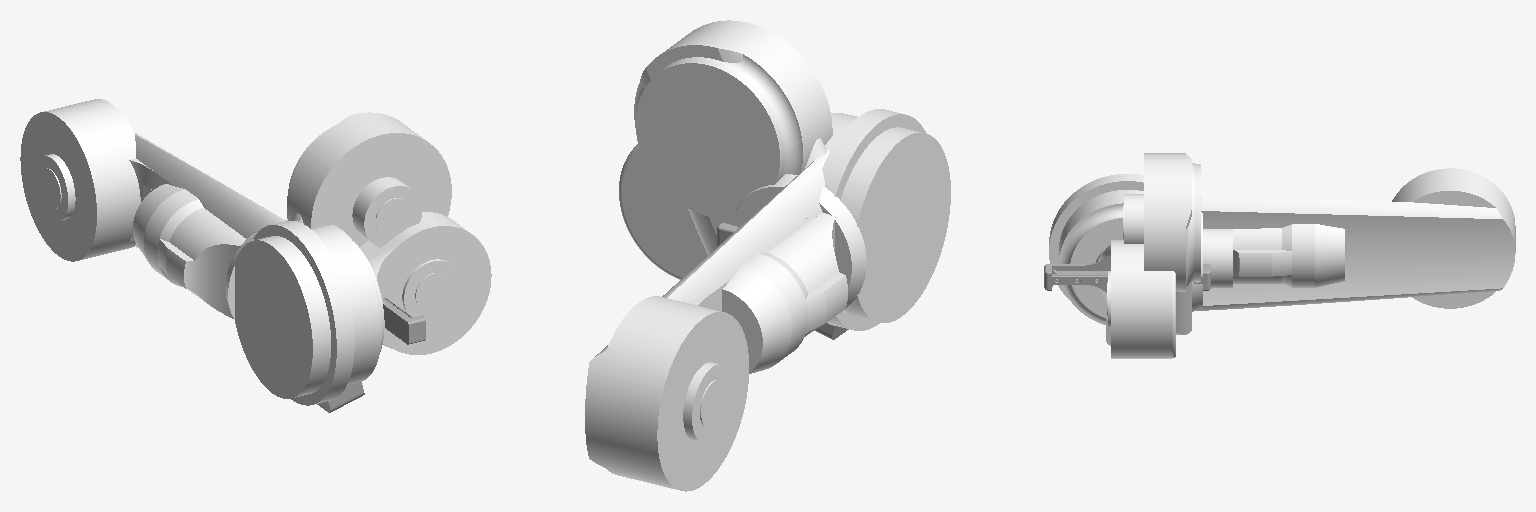
URDF robot description (UF_ROBOT):
<?xml version="1.0" ?>
<!-- =================================================================================== -->
<!-- |    This document was autogenerated by xacro from /home/ruthwik/Documents/dimos/data/xarm_description/urdf/xarm_device.urdf.xacro | -->
<!-- |    EDITING THIS FILE BY HAND IS NOT RECOMMENDED                                 | -->
<!-- =================================================================================== -->
<robot name="UF_ROBOT">
  <!-- Insert at the beginning of xarm_device_macro.xacro -->
  <material name="Black">
    <color rgba="0.0 0.0 0.0 1.0"/>
  </material>
  <material name="Red">
    <color rgba="0.8 0.0 0.0 1.0"/>
  </material>
  <material name="White">
    <color rgba="1.0 1.0 1.0 1.0"/>
  </material>
  <material name="Silver">
    <color rgba="0.753 0.753 0.753 1.0"/>
  </material>
  <link name="world"/>
  <joint name="world_joint" type="fixed">
    <parent link="world"/>
    <child link="link_base"/>
    <origin rpy="0 0 0" xyz="0 0 0"/>
  </joint>
  <ros2_control name="uf_robot_hardware/UFRobotSystemHardware" type="system">
    <hardware>
      <plugin>uf_robot_hardware/UFRobotSystemHardware</plugin>
      <param name="hw_ns">xarm</param>
      <param name="velocity_control">False</param>
      <param name="prefix">P</param>
      <param name="robot_ip">R</param>
      <param name="report_type">normal</param>
      <param name="dof">6</param>
      <param name="baud_checkset">True</param>
      <param name="default_gripper_baud">2000000</param>
      <param name="robot_type">xarm</param>
      <param name="add_gripper">False</param>
      <param name="add_bio_gripper">False</param>
      <!-- fake -->
      <!-- <plugin>fake_components/GenericSystem</plugin> -->
      <!-- gazebo -->
      <!-- <plugin>gazebo_ros2_control/GazeboSystem</plugin> -->
      <!-- real xarm -->
      <!-- <plugin>uf_robot_hardware/UFRobotSystemHardware</plugin> -->
    </hardware>
    <joint name="joint1">
      <command_interface name="position">
        <param name="min">-6.283185307179586</param>
        <param name="max">6.283185307179586</param>
      </command_interface>
      <command_interface name="velocity">
        <param name="min">-3.14</param>
        <param name="max">3.14</param>
      </command_interface>
      <state_interface name="position"/>
      <state_interface name="velocity"/>
      <!-- <state_interface name="effort"/> -->
    </joint>
    <joint name="joint2">
      <command_interface name="position">
        <param name="min">-2.059</param>
        <param name="max">2.0944</param>
      </command_interface>
      <command_interface name="velocity">
        <param name="min">-3.14</param>
        <param name="max">3.14</param>
      </command_interface>
      <state_interface name="position"/>
      <state_interface name="velocity"/>
      <!-- <state_interface name="effort"/> -->
    </joint>
    <joint name="joint3">
      <command_interface name="position">
        <param name="min">-3.927</param>
        <param name="max">0.19198</param>
      </command_interface>
      <command_interface name="velocity">
        <param name="min">-3.14</param>
        <param name="max">3.14</param>
      </command_interface>
      <state_interface name="position"/>
      <state_interface name="velocity"/>
      <!-- <state_interface name="effort"/> -->
    </joint>
    <joint name="joint4">
      <command_interface name="position">
        <param name="min">-6.283185307179586</param>
        <param name="max">6.283185307179586</param>
      </command_interface>
      <command_interface name="velocity">
        <param name="min">-3.14</param>
        <param name="max">3.14</param>
      </command_interface>
      <state_interface name="position"/>
      <state_interface name="velocity"/>
      <!-- <state_interface name="effort"/> -->
    </joint>
    <joint name="joint5">
      <command_interface name="position">
        <param name="min">-1.69297</param>
        <param name="max">3.141592653589793</param>
      </command_interface>
      <command_interface name="velocity">
        <param name="min">-3.14</param>
        <param name="max">3.14</param>
      </command_interface>
      <state_interface name="position"/>
      <state_interface name="velocity"/>
      <!-- <state_interface name="effort"/> -->
    </joint>
    <joint name="joint6">
      <command_interface name="position">
        <param name="min">-6.283185307179586</param>
        <param name="max">6.283185307179586</param>
      </command_interface>
      <command_interface name="velocity">
        <param name="min">-3.14</param>
        <param name="max">3.14</param>
      </command_interface>
      <state_interface name="position"/>
      <state_interface name="velocity"/>
      <!-- <state_interface name="effort"/> -->
    </joint>
  </ros2_control>
  <link name="link_base">
    <inertial>
      <origin rpy="0 0 0" xyz="0.0 0.0 0.09103"/>
      <mass value="2.7"/>
      <inertia ixx="0.00494875" ixy="-3.5E-06" ixz="1.25E-05" iyy="0.00494174" iyz="1.67E-06" izz="0.002219"/>
    </inertial>
    <visual>
      <geometry>
        <mesh filename="package://xarm_description/meshes/xarm6/visual/link_base.stl"/>
      </geometry>
      <origin rpy="0 0 0" xyz="0 0 0"/>
      <material name="White"/>
    </visual>
    <collision>
      <geometry>
        <mesh filename="package://xarm_description/meshes/xarm6/visual/link_base.stl"/>
      </geometry>
      <origin rpy="0 0 0" xyz="0 0 0"/>
    </collision>
  </link>
  <link name="link1">
    <inertial>
      <origin rpy="0 0 0" xyz="0.00022 0.02951 -0.0124"/>
      <mass value="2.3814"/>
      <inertia ixx="0.0058562" ixy="-1.79e-05" ixz="3.55e-06" iyy="0.0050316" iyz="-0.000888336" izz="0.003536652"/>
    </inertial>
    <visual>
      <geometry>
        <mesh filename="package://xarm_description/meshes/xarm6/visual/link1.stl"/>
      </geometry>
      <origin rpy="0 0 0" xyz="0 0 0"/>
      <material name="White"/>
    </visual>
    <collision>
      <geometry>
        <mesh filename="package://xarm_description/meshes/xarm6/visual/link1.stl"/>
      </geometry>
      <origin rpy="0 0 0" xyz="0 0 0"/>
    </collision>
  </link>
  <joint name="joint1" type="revolute">
    <parent link="link_base"/>
    <child link="link1"/>
    <origin rpy="0 0 0" xyz="0 0 0.267"/>
    <axis xyz="0 0 1"/>
    <limit effort="50.0" lower="-6.283185307179586" upper="6.283185307179586" velocity="3.14"/>
    <dynamics damping="1.0" friction="1.0"/>
  </joint>
  <link name="link2">
    <inertial>
      <origin rpy="0 0 0" xyz="0.03881 -0.22783 0.03496"/>
      <mass value="2.2675"/>
      <inertia ixx="0.028315776" ixy="0.005" ixz="0.00066546" iyy="0.0058" iyz="-0.0045741" izz="0.0273447"/>
    </inertial>
    <visual>
      <geometry>
        <mesh filename="package://xarm_description/meshes/xarm6/visual/link2.stl"/>
      </geometry>
      <origin rpy="0 0 0" xyz="0 0 0"/>
      <material name="White"/>
    </visual>
    <collision>
      <geometry>
        <mesh filename="package://xarm_description/meshes/xarm6/visual/link2.stl"/>
      </geometry>
      <origin rpy="0 0 0" xyz="0 0 0"/>
    </collision>
  </link>
  <joint name="joint2" type="revolute">
    <parent link="link1"/>
    <child link="link2"/>
    <origin rpy="-1.5708 0 0" xyz="0 0 0"/>
    <axis xyz="0 0 1"/>
    <limit effort="50.0" lower="-2.059" upper="2.0944" velocity="3.14"/>
    <dynamics damping="1.0" friction="1.0"/>
  </joint>
  <link name="link3">
    <inertial>
      <origin rpy="0 0 0" xyz="0.07041 0.11631 0.0107"/>
      <mass value="1.875"/>
      <inertia ixx="0.0063483" ixy="-0.0015397" ixz="0.00096858" iyy="0.00379758" iyz="0.00186567" izz="0.00595768"/>
    </inertial>
    <visual>
      <geometry>
        <mesh filename="package://xarm_description/meshes/xarm6/visual/link3.stl"/>
      </geometry>
      <origin rpy="0 0 0" xyz="0 0 0"/>
      <material name="White"/>
    </visual>
    <collision>
      <geometry>
        <mesh filename="package://xarm_description/meshes/xarm6/visual/link3.stl"/>
      </geometry>
      <origin rpy="0 0 0" xyz="0 0 0"/>
    </collision>
  </link>
  <joint name="joint3" type="revolute">
    <parent link="link2"/>
    <child link="link3"/>
    <origin rpy="0 0 0" xyz="0.0535 -0.2845 0"/>
    <axis xyz="0 0 1"/>
    <limit effort="32.0" lower="-3.927" upper="0.19198" velocity="3.14"/>
    <dynamics damping="1.0" friction="1.0"/>
  </joint>
  <link name="link4">
    <inertial>
      <origin rpy="0 0 0" xyz="-0.00018 0.01798 -0.02291"/>
      <mass value="1.3192"/>
      <inertia ixx="0.004896" ixy="-6.925e-06" ixz="-1.418e-05" iyy="0.00445694" iyz="-0.00023186" izz="0.00134332"/>
    </inertial>
    <visual>
      <geometry>
        <mesh filename="package://xarm_description/meshes/xarm6/visual/link4.stl"/>
      </geometry>
      <origin rpy="0 0 0" xyz="0 0 0"/>
      <material name="White"/>
    </visual>
    <collision>
      <geometry>
        <mesh filename="package://xarm_description/meshes/xarm6/visual/link4.stl"/>
      </geometry>
      <origin rpy="0 0 0" xyz="0 0 0"/>
    </collision>
  </link>
  <joint name="joint4" type="revolute">
    <parent link="link3"/>
    <child link="link4"/>
    <origin rpy="-1.5708 0 0" xyz="0.0775 0.3425 0"/>
    <axis xyz="0 0 1"/>
    <limit effort="32.0" lower="-6.283185307179586" upper="6.283185307179586" velocity="3.14"/>
    <dynamics damping="1.0" friction="1.0"/>
  </joint>
  <link name="link5">
    <inertial>
      <origin rpy="0 0 0" xyz="0.0651 0.03096 0.00315"/>
      <mass value="1.33854"/>
      <inertia ixx="0.00146378" ixy="-0.000450624" ixz="0.000284306" iyy="0.00184192" iyz="0.000130866" izz="0.002333524"/>
    </inertial>
    <visual>
      <geometry>
        <mesh filename="package://xarm_description/meshes/xarm6/visual/link5.stl"/>
      </geometry>
      <origin rpy="0 0 0" xyz="0 0 0"/>
      <material name="White"/>
    </visual>
    <collision>
      <geometry>
        <mesh filename="package://xarm_description/meshes/xarm6/visual/link5.stl"/>
      </geometry>
      <origin rpy="0 0 0" xyz="0 0 0"/>
    </collision>
  </link>
  <joint name="joint5" type="revolute">
    <parent link="link4"/>
    <child link="link5"/>
    <origin rpy="1.5708 0 0" xyz="0 0 0"/>
    <axis xyz="0 0 1"/>
    <limit effort="32.0" lower="-1.69297" upper="3.141592653589793" velocity="3.14"/>
    <dynamics damping="1.0" friction="1.0"/>
  </joint>
  <link name="link6">
    <inertial>
      <origin rpy="0 0 0" xyz="0 -0.00677 -0.01098"/>
      <mass value="0.17"/>
      <inertia ixx="9.3e-05" ixy="-0.0" ixz="-0.0" iyy="5.87e-05" iyz="-3.6e-06" izz="0.000132"/>
    </inertial>
    <visual>
      <geometry>
        <mesh filename="package://xarm_description/meshes/xarm6/visual/link6.stl"/>
      </geometry>
      <origin rpy="0 0 0" xyz="0 0 0"/>
      <material name="Silver"/>
    </visual>
    <collision>
      <geometry>
        <mesh filename="package://xarm_description/meshes/end_tool/collision/end_tool.stl"/>
      </geometry>
      <origin rpy="0 0 0" xyz="0 0 0"/>
    </collision>
  </link>
  <joint name="joint6" type="revolute">
    <parent link="link5"/>
    <child link="link6"/>
    <origin rpy="-1.5708 0 0" xyz="0.076 0.097 0"/>
    <axis xyz="0 0 1"/>
    <limit effort="20.0" lower="-6.283185307179586" upper="6.283185307179586" velocity="3.14"/>
    <dynamics damping="1.0" friction="1.0"/>
  </joint>
  <!-- <link name="${prefix}link_eef" />
    <joint name="${prefix}joint_eef" type="fixed">
      <origin xyz="0 0 0" rpy="0 0 0" />
      <parent link="${prefix}link6" />
      <child link="${prefix}link_eef" />
    </joint> -->
  <transmission name="tran1">
    <type>transmission_interface/SimpleTransmission</type>
    <joint name="joint1">
      <hardwareInterface>hardware_interface/PositionJointInterface</hardwareInterface>
    </joint>
    <actuator name="motor1">
      <hardwareInterface>hardware_interface/PositionJointInterface</hardwareInterface>
      <mechanicalReduction>100</mechanicalReduction>
    </actuator>
  </transmission>
  <transmission name="tran2">
    <type>transmission_interface/SimpleTransmission</type>
    <joint name="joint2">
      <hardwareInterface>hardware_interface/PositionJointInterface</hardwareInterface>
    </joint>
    <actuator name="motor2">
      <hardwareInterface>hardware_interface/PositionJointInterface</hardwareInterface>
      <mechanicalReduction>100</mechanicalReduction>
    </actuator>
  </transmission>
  <transmission name="tran3">
    <type>transmission_interface/SimpleTransmission</type>
    <joint name="joint3">
      <hardwareInterface>hardware_interface/PositionJointInterface</hardwareInterface>
    </joint>
    <actuator name="motor3">
      <hardwareInterface>hardware_interface/PositionJointInterface</hardwareInterface>
      <mechanicalReduction>100</mechanicalReduction>
    </actuator>
  </transmission>
  <transmission name="tran4">
    <type>transmission_interface/SimpleTransmission</type>
    <joint name="joint4">
      <hardwareInterface>hardware_interface/PositionJointInterface</hardwareInterface>
    </joint>
    <actuator name="motor4">
      <hardwareInterface>hardware_interface/PositionJointInterface</hardwareInterface>
      <mechanicalReduction>100</mechanicalReduction>
    </actuator>
  </transmission>
  <transmission name="tran5">
    <type>transmission_interface/SimpleTransmission</type>
    <joint name="joint5">
      <hardwareInterface>hardware_interface/PositionJointInterface</hardwareInterface>
    </joint>
    <actuator name="motor5">
      <hardwareInterface>hardware_interface/PositionJointInterface</hardwareInterface>
      <mechanicalReduction>100</mechanicalReduction>
    </actuator>
  </transmission>
  <transmission name="tran6">
    <type>transmission_interface/SimpleTransmission</type>
    <joint name="joint6">
      <hardwareInterface>hardware_interface/PositionJointInterface</hardwareInterface>
    </joint>
    <actuator name="motor6">
      <hardwareInterface>hardware_interface/PositionJointInterface</hardwareInterface>
      <mechanicalReduction>100</mechanicalReduction>
    </actuator>
  </transmission>
  <gazebo reference="link_base">
    <selfCollide>true</selfCollide>
  </gazebo>
  <gazebo reference="link1">
    <selfCollide>true</selfCollide>
  </gazebo>
  <gazebo reference="link2">
    <selfCollide>true</selfCollide>
  </gazebo>
  <gazebo reference="link3">
    <selfCollide>true</selfCollide>
  </gazebo>
  <gazebo reference="link4">
    <selfCollide>true</selfCollide>
  </gazebo>
  <gazebo reference="link5">
    <selfCollide>true</selfCollide>
  </gazebo>
  <gazebo reference="link6">
    <selfCollide>true</selfCollide>
  </gazebo>
  <link name="link_eef"/>
  <joint name="joint_eef" type="fixed">
    <origin rpy="0 0 0" xyz="0 0 0"/>
    <parent link="link6"/>
    <child link="link_eef"/>
  </joint>
  <!-- Insert at the end of xarm_device_macro.xacro -->
</robot>

--- Render facts (derived) ---
Views: 3 orthographic renders of the robot side by side, from view 1: azimuth 30°, elevation 25°; view 2: azimuth 150°, elevation 25°; view 3: azimuth 270°, elevation 25°.
Model UF_ROBOT with 9 links and 8 joints (6 revolute, 2 fixed), rooted at world, posed all joints at 0.
Visible links, largest first — view 1: link2, link1, link4, link3, link6, link5; view 2: link2, link1, link3, link4, link5, link6; view 3: link2, link1, link4, link3, link5, link6.
Link boxes in pixels (left/top/right/bottom): link2: left=20, top=99, right=384, bottom=398; link1: left=253, top=112, right=451, bottom=405; link4: left=360, top=212, right=491, bottom=354; link3: left=133, top=184, right=251, bottom=318; link6: left=317, top=297, right=425, bottom=412; link5: left=225, top=220, right=287, bottom=319; link2: left=585, top=113, right=950, bottom=491; link1: left=634, top=20, right=926, bottom=330; link3: left=722, top=204, right=847, bottom=373; link4: left=619, top=144, right=707, bottom=279; link5: left=730, top=174, right=866, bottom=307; link6: left=717, top=223, right=848, bottom=339; link2: left=1059, top=168, right=1515, bottom=324; link1: left=1049, top=153, right=1200, bottom=334; link4: left=1096, top=240, right=1175, bottom=358; link3: left=1233, top=224, right=1344, bottom=287; link5: left=1192, top=212, right=1232, bottom=311; link6: left=1044, top=256, right=1210, bottom=345.
Size in the robot's own frame: 237 by 470 by 231 metres.
Meshes: 7 distinct files referenced, 6 mesh visuals loaded (6 binary STL); not drawn: 1 (reference not matched to a file when rendering).
